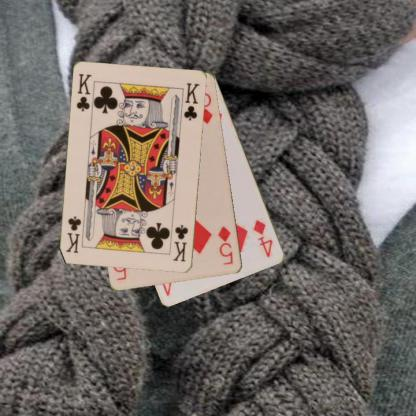4d: (251, 217, 274, 259)
5d: (216, 224, 234, 266)
Kc: (74, 71, 93, 113), (171, 222, 190, 263)
